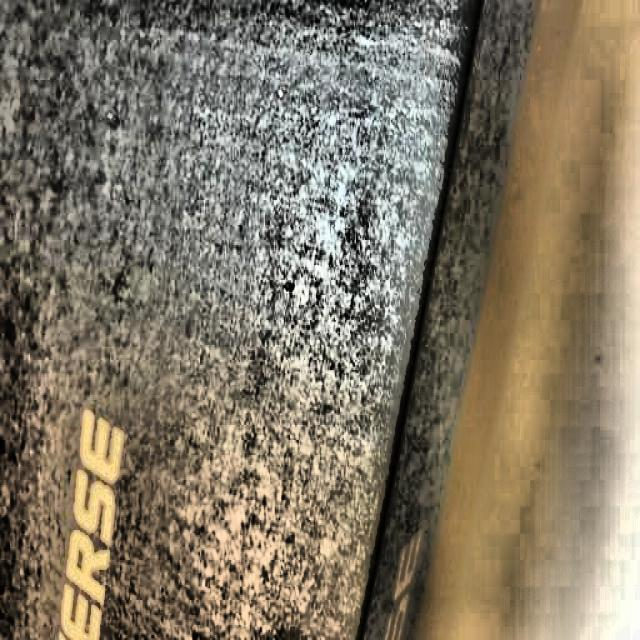cardboard: (19, 4, 543, 631)
